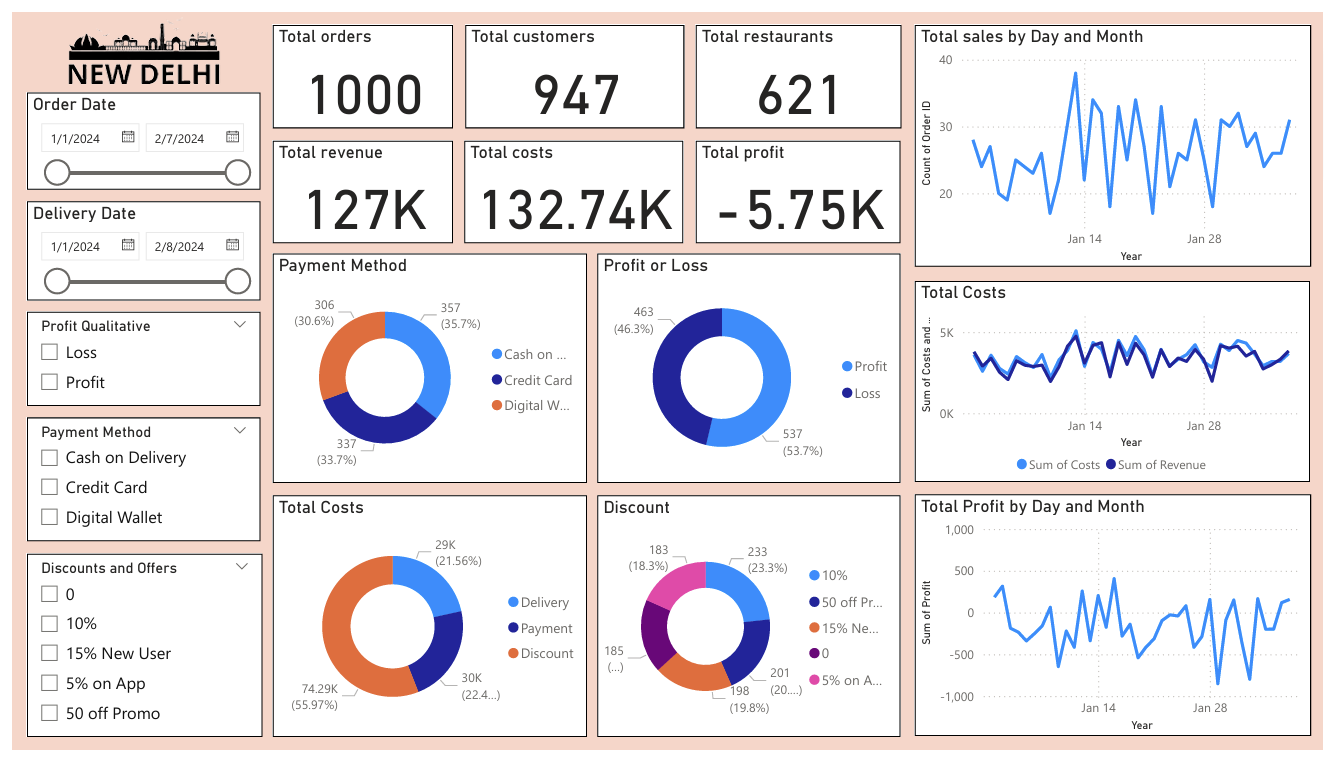

What the dashboard file says about the page in this screenshot:
{"tool":"powerbi","page":{"name":"Page 1","canvas":[1280,720],"ordinal":0},"visuals":[{"type":"slicer","title":"Total orders","fields":{"Values":["food_orders_new_delhi_cleaned.Payment Method"]},"box":[13.6,394.6,228.6,121.1],"z":0},{"type":"slicer","title":"Delivery Date","fields":{"Values":["food_orders_new_delhi_cleaned.Delivery Date and Time"]},"box":[13.6,184.1,228.6,96.6],"z":1000},{"type":"slicer","title":"Order Date","fields":{"Values":["food_orders_new_delhi_cleaned.Order Date and Time"]},"box":[13.6,77.6,228.6,95.2],"z":2000},{"type":"slicer","title":"Total orders","fields":{"Values":["food_orders_new_delhi_cleaned.Discounts and Offers"]},"box":[13.6,527.9,229.9,179.6],"z":3000},{"type":"card","title":"Total orders","fields":{"Values":["CountNonNull(food_orders_new_delhi_cleaned.Order ID)"]},"box":[254.4,12.2,175.5,100.7],"z":4000},{"type":"card","title":"Total customers","fields":{"Values":["Count(food_orders_new_delhi_cleaned.Customer ID)"]},"box":[442.2,12.2,213.6,100.7],"z":5000},{"type":"card","title":"Total restaurants","fields":{"Values":["Count(food_orders_new_delhi_cleaned.Restaurant ID)"]},"box":[666.7,12.2,201.4,100.7],"z":6000},{"type":"donutChart","title":"Payment Method","fields":{"Y":["CountNonNull(food_orders_new_delhi_cleaned.Order ID)"],"Category":["food_orders_new_delhi_cleaned.Payment Method"]},"box":[254.4,235.4,306.1,223.1],"z":7000},{"type":"donutChart","title":"Discount","fields":{"Y":["CountNonNull(food_orders_new_delhi_cleaned.Order ID)"],"Category":["food_orders_new_delhi_cleaned.Discounts and Offers"]},"box":[571.4,470.7,295.2,236.7],"z":8000},{"type":"card","title":"Total revenue","fields":{"Values":["Sum(food_orders_new_delhi_cleaned.Commission Fee)"]},"box":[254.4,124.8,175.5,100.7],"z":9000},{"type":"card","title":"Total costs","fields":{"Values":["Sum(food_orders_new_delhi_cleaned.Costs)"]},"box":[441.5,124.8,213.6,100.7],"z":10000},{"type":"card","title":"Total profit","fields":{"Values":["Sum(food_orders_new_delhi_cleaned.Profit)"]},"box":[666.7,124.8,200,100.7],"z":11000},{"type":"lineChart","title":"Total Costs","fields":{"Category":["food_orders_new_delhi_cleaned.Order Date and Time.Variation.Date Hierarchy.Year","food_orders_new_delhi_cleaned.Order Date and Time.Variation.Date Hierarchy.Quarter","food_orders_new_delhi_cleaned.Order Date and Time.Variation.Date Hierarchy.Month","food_orders_new_delhi_cleaned.Order Date and Time.Variation.Date Hierarchy.Day"],"Y":["Sum(food_orders_new_delhi_cleaned.Costs)","Sum(food_orders_new_delhi_cleaned.Revenue)"]},"box":[880.9,262.5,386.4,195.7],"z":12000},{"type":"lineChart","title":"Total sales by Day and Month","fields":{"Category":["food_orders_new_delhi_cleaned.Order Date and Time.Variation.Date Hierarchy.Year","food_orders_new_delhi_cleaned.Order Date and Time.Variation.Date Hierarchy.Quarter","food_orders_new_delhi_cleaned.Order Date and Time.Variation.Date Hierarchy.Month","food_orders_new_delhi_cleaned.Order Date and Time.Variation.Date Hierarchy.Day"],"Y":["CountNonNull(food_orders_new_delhi_cleaned.Order ID)"]},"box":[880.5,12,387,236],"z":13000},{"type":"slicer","title":"Total orders","fields":{"Values":["food_orders_new_delhi_cleaned.Profit Qualitative"]},"box":[13.6,291.8,228.6,92.5],"z":14000},{"type":"lineChart","title":"Total Profit by Day and Month","fields":{"Category":["food_orders_new_delhi_cleaned.Order Date and Time.Variation.Date Hierarchy.Year","food_orders_new_delhi_cleaned.Order Date and Time.Variation.Date Hierarchy.Quarter","food_orders_new_delhi_cleaned.Order Date and Time.Variation.Date Hierarchy.Month","food_orders_new_delhi_cleaned.Order Date and Time.Variation.Date Hierarchy.Day"],"Y":["Sum(food_orders_new_delhi_cleaned.Profit)"]},"box":[880.5,470.3,387,236],"z":15000},{"type":"donutChart","title":"Total Costs","fields":{"Y":["Sum(food_orders_new_delhi_cleaned.Delivery Fee)","Sum(food_orders_new_delhi_cleaned.Payment Processing Fee)","Sum(food_orders_new_delhi_cleaned.Discount Amount)"]},"box":[254.4,470.7,306.1,236.7],"z":16000},{"type":"image","box":[13.6,0,228.6,77.6],"z":17000},{"type":"donutChart","title":"Profit or Loss","fields":{"Y":["CountNonNull(food_orders_new_delhi_cleaned.Order ID)"],"Category":["food_orders_new_delhi_cleaned.Profit Qualitative"]},"box":[571.4,235.4,295.2,223.1],"z":18000}]}

Visuals, with their boxes in screenshot pixels (x1, y1, x2, y2), scaled from the page's 1280x720 canvas onto the 1334x758 screenshot:
"Total orders" slicer: crop(14, 415, 252, 543)
"Delivery Date" slicer: crop(14, 194, 252, 296)
"Order Date" slicer: crop(14, 82, 252, 182)
"Total orders" slicer: crop(14, 556, 254, 745)
"Total orders" card: crop(265, 13, 448, 119)
"Total customers" card: crop(461, 13, 683, 119)
"Total restaurants" card: crop(695, 13, 905, 119)
"Payment Method" donutChart: crop(265, 248, 584, 483)
"Discount" donutChart: crop(596, 496, 903, 745)
"Total revenue" card: crop(265, 131, 448, 237)
"Total costs" card: crop(460, 131, 683, 237)
"Total profit" card: crop(695, 131, 903, 237)
"Total Costs" lineChart: crop(918, 276, 1321, 482)
"Total sales by Day and Month" lineChart: crop(918, 13, 1321, 261)
"Total orders" slicer: crop(14, 307, 252, 405)
"Total Profit by Day and Month" lineChart: crop(918, 495, 1321, 744)
"Total Costs" donutChart: crop(265, 496, 584, 745)
image: crop(14, 0, 252, 82)
"Profit or Loss" donutChart: crop(596, 248, 903, 483)
